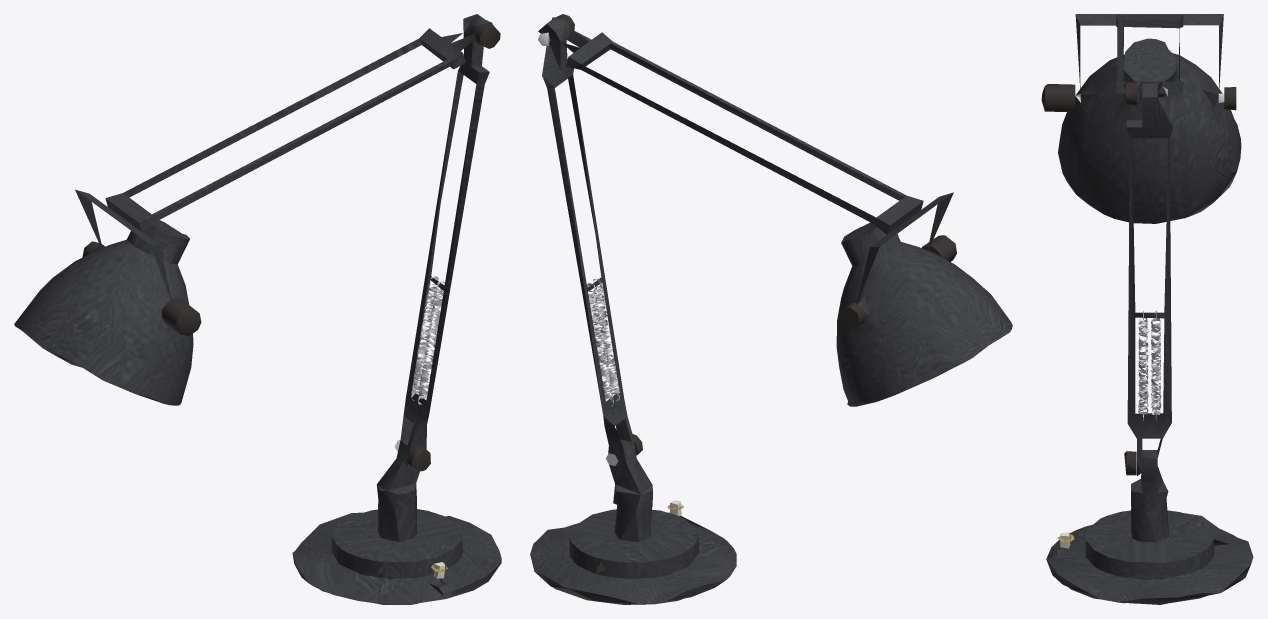
The model's file is simready-lamp-desk-arm.18c7bebf.glb.
3 views of the same model, side by side, from view 1: azimuth 30°, elevation 25°; view 2: azimuth 150°, elevation 25°; view 3: azimuth 270°, elevation 25° (orthographic).
Visible parts, largest first — view 1: model; view 2: model; view 3: model.
Part boxes in pixels (x1,y1,x2,y2): model: [14, 14, 501, 604]; model: [530, 14, 1012, 604]; model: [1041, 14, 1253, 604].
Bounding box in the file's own units: 0.4328 × 0.4715 × 0.174.
11 materials, 2 textured.
